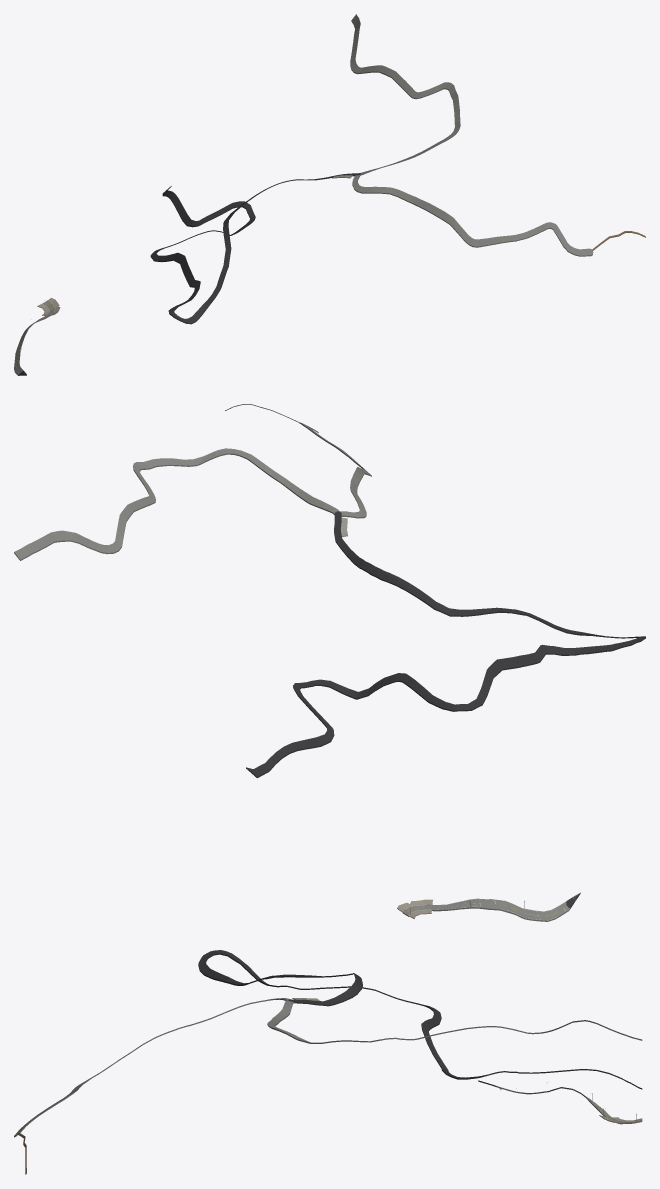
3 renders of one model, top to bottom at view 1: azimuth 30°, elevation 25°; view 2: azimuth 150°, elevation 25°; view 3: azimuth 270°, elevation 25°, orthographic. The views are drawn at different scales.
Bounding box in the file's own units: 588 × 296 × 529.
